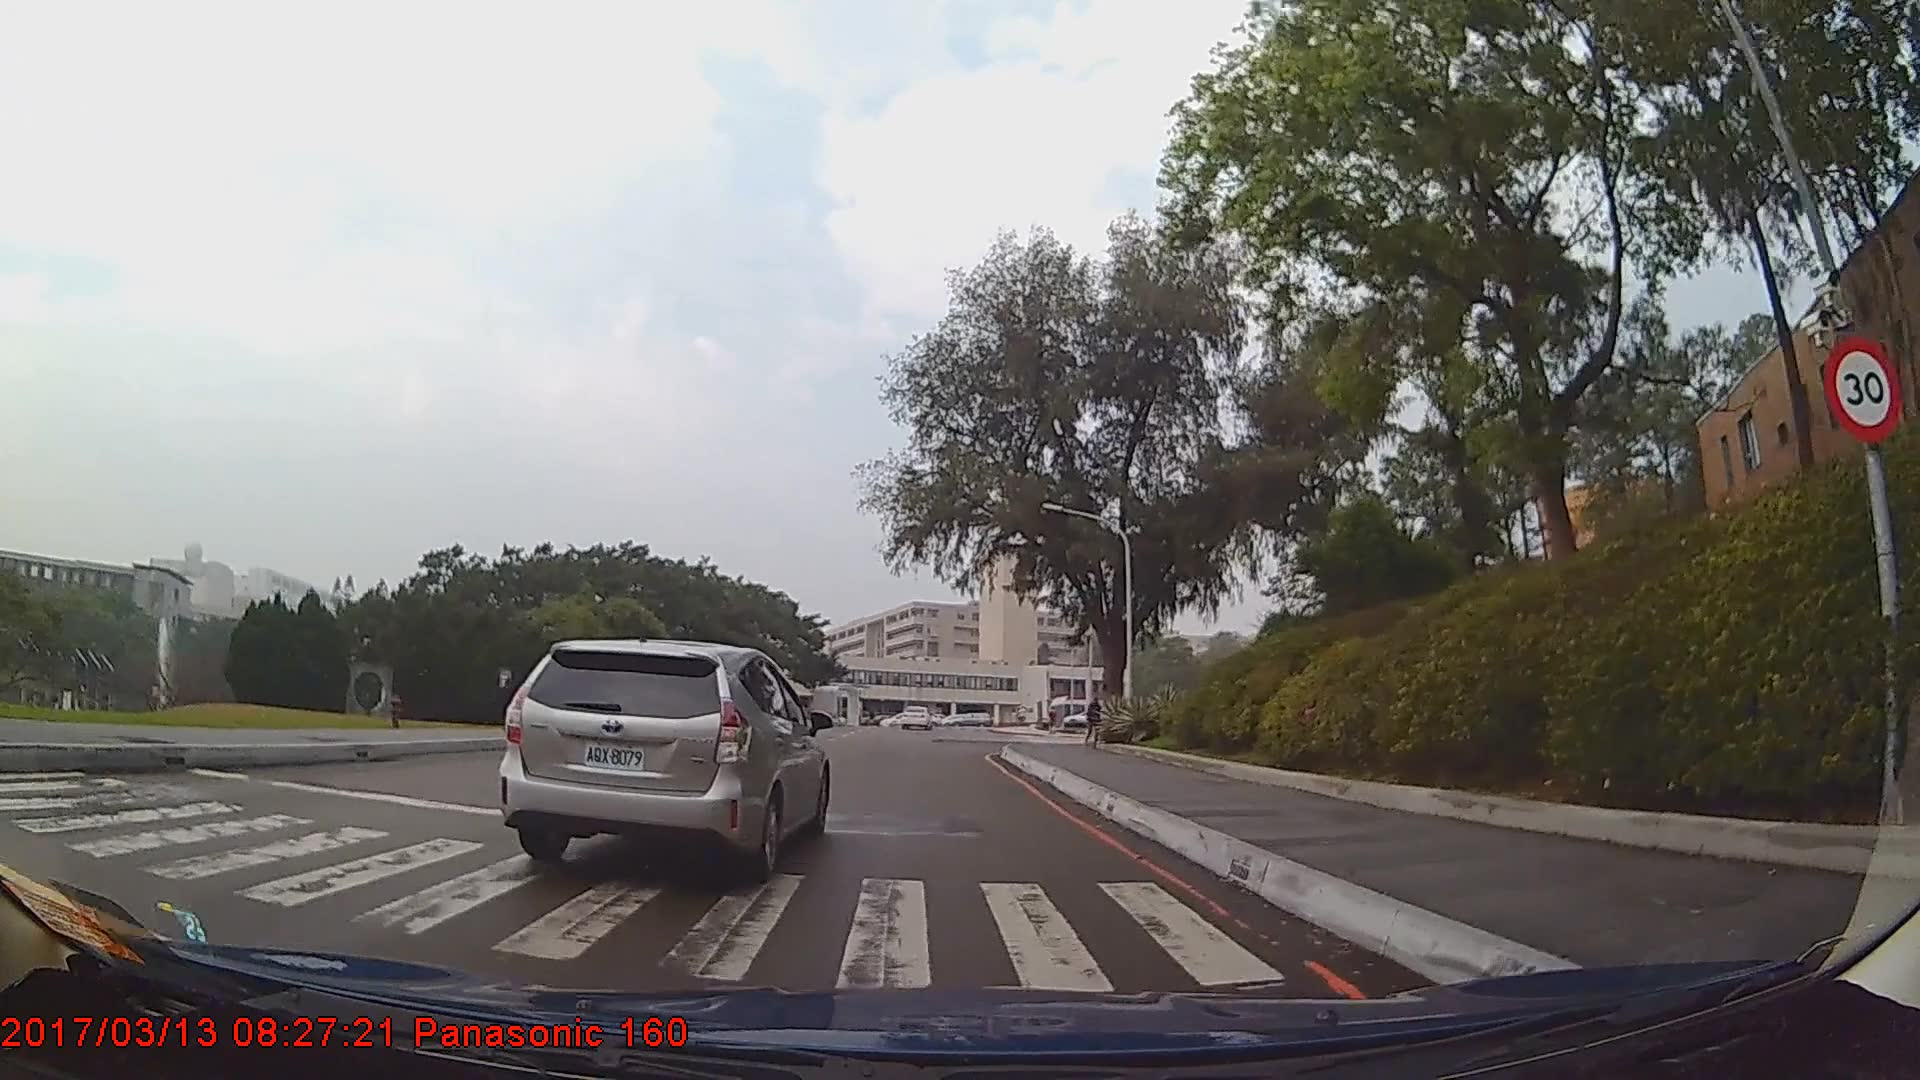pedestrian: (1085, 695, 1105, 748)
vehicle: (496, 635, 831, 882), (896, 705, 930, 732)
